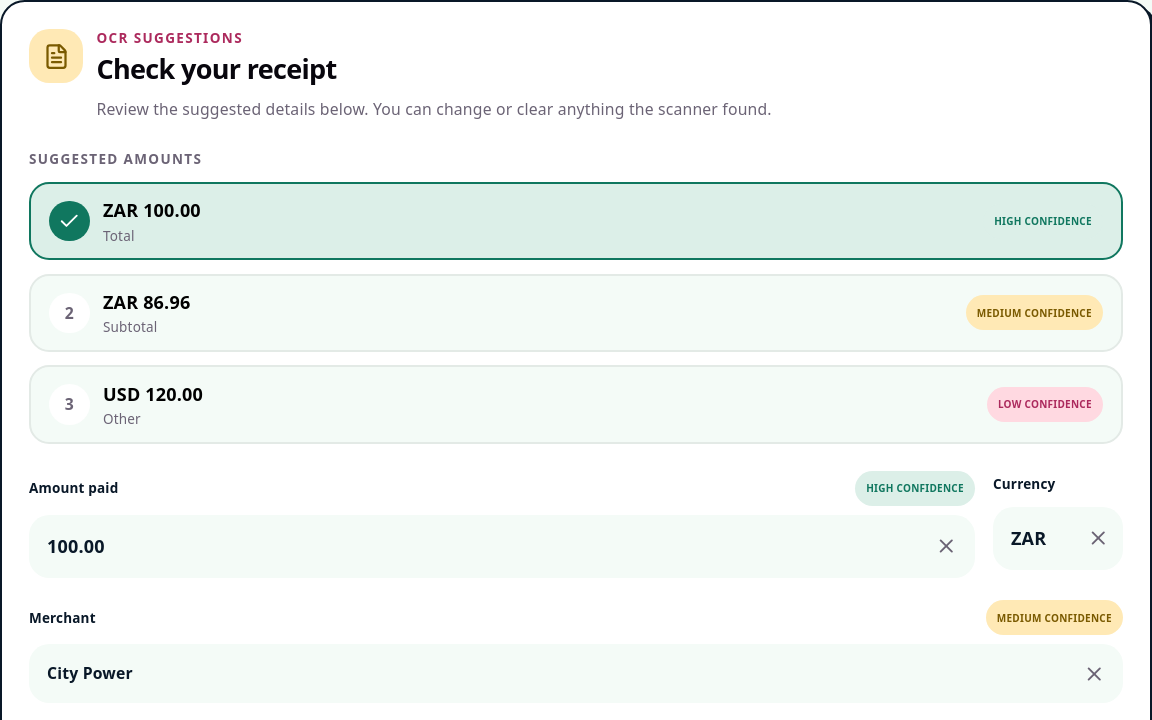
ReceiptExtractionForm › selects an amount candidate and its corresponding currency
Click the button with aria-label "Use other USD 120.00": (69,405) [29,365,1123,444]
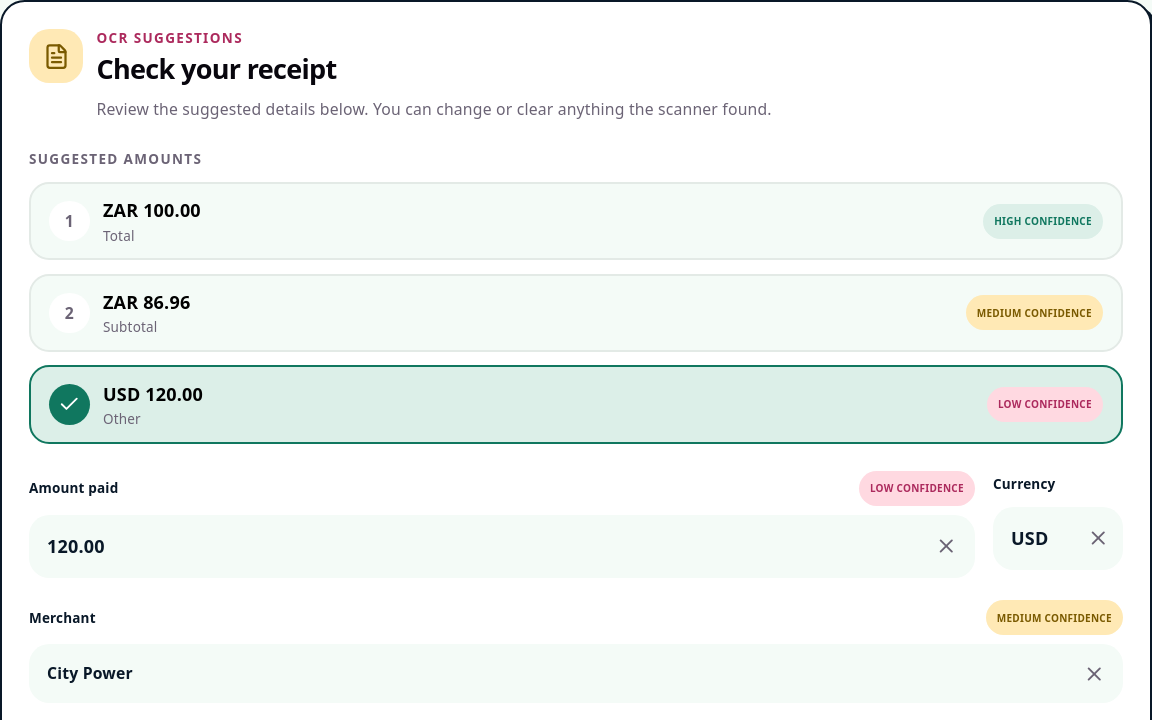
Now the field labelled "Amount paid" holds "120.00", box [29,515,975,578]
Now the field labelled "Currency" holds "USD", box [993,507,1123,570]
